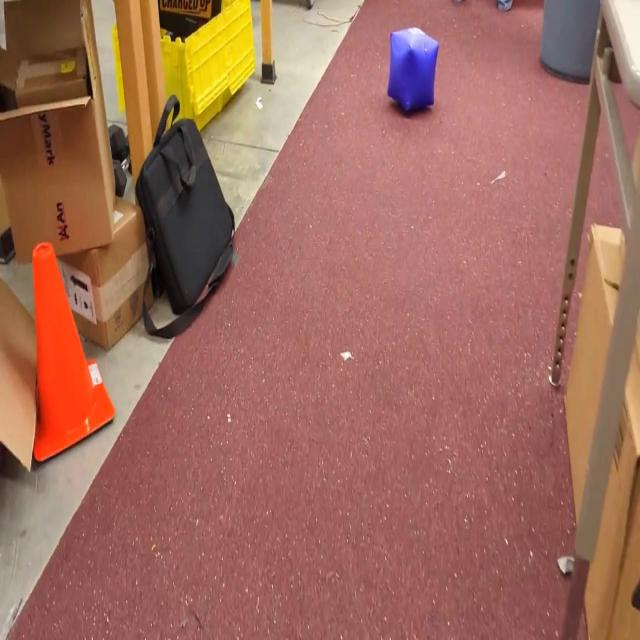frc_cube: (387, 24, 441, 116)
